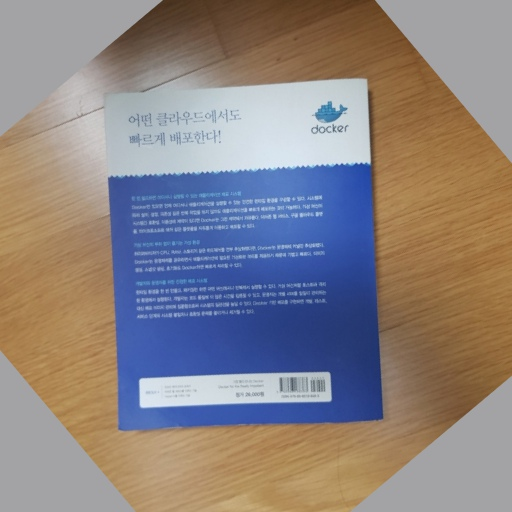Paper_0: (100, 76, 397, 436)
